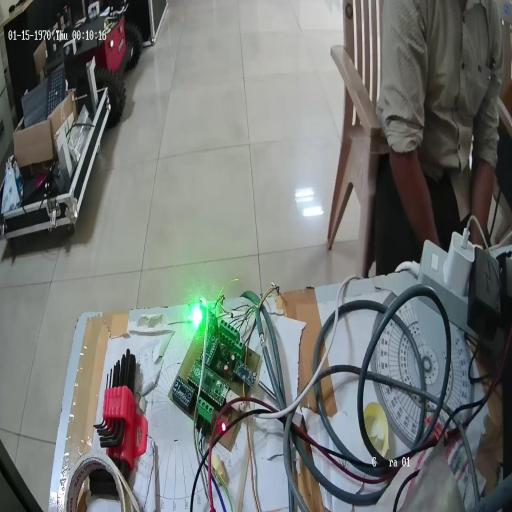laser: (188, 299, 206, 332)
